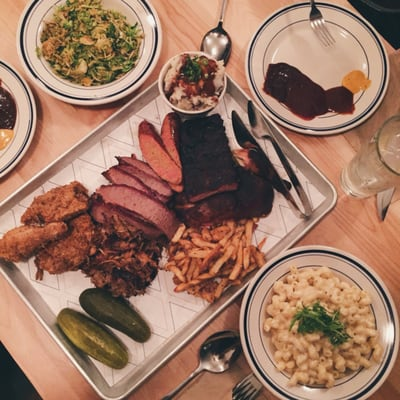burger: (157, 330, 240, 400), (309, 0, 336, 48), (232, 374, 263, 400)
curry: (289, 301, 349, 345)
pizza: (340, 112, 400, 200)
salad: (159, 329, 242, 400), (200, 0, 232, 65)
sushi: (240, 246, 398, 400), (21, 0, 157, 100), (159, 51, 228, 115)
